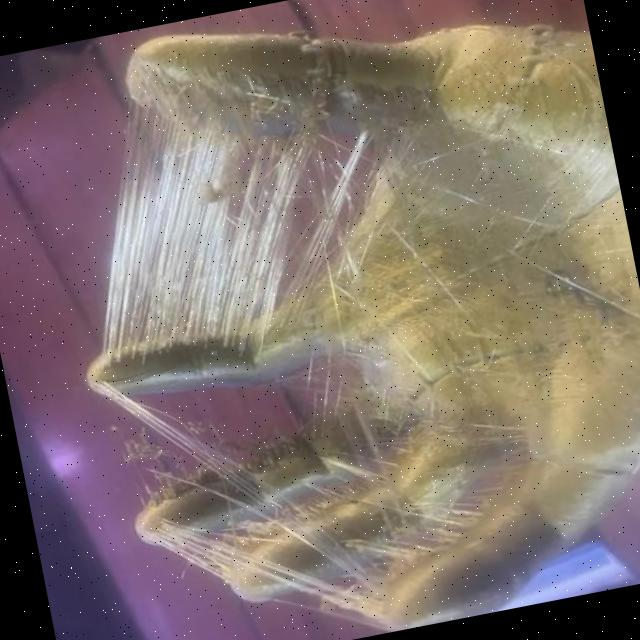stringing: (41, 51, 372, 380)
